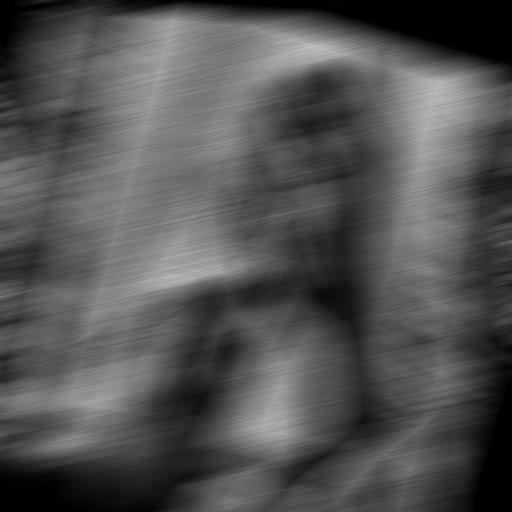bottom_left: (357, 459, 387, 470)
bottom_right: (15, 403, 46, 415)
eiffel-tower: (90, 34, 412, 410)
